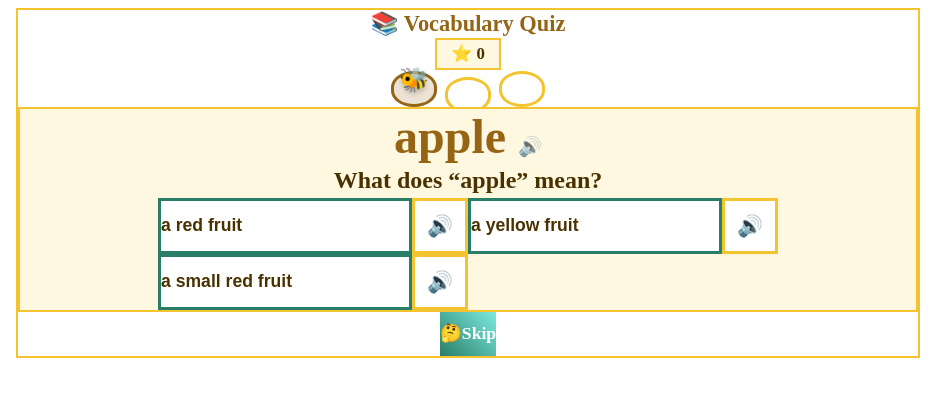
Test: QuizMode: one answer, one advance, one finish › "Next Question" cancels the auto-advance instead of skipping a question
The width and height of the screenshot is (937, 398).
Click the button "a red fruit" at (285, 226), box [158,198,412,254]
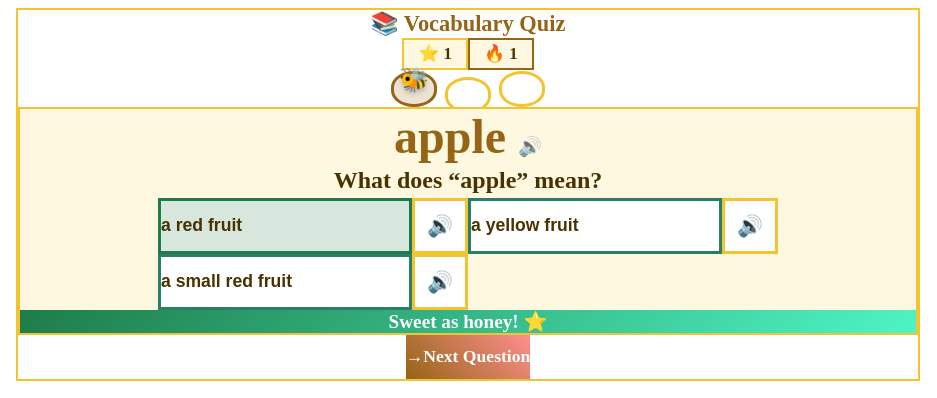
Click the button "→ Next Question" at (468, 357), box [406,335,530,379]
Wait 5000 ms
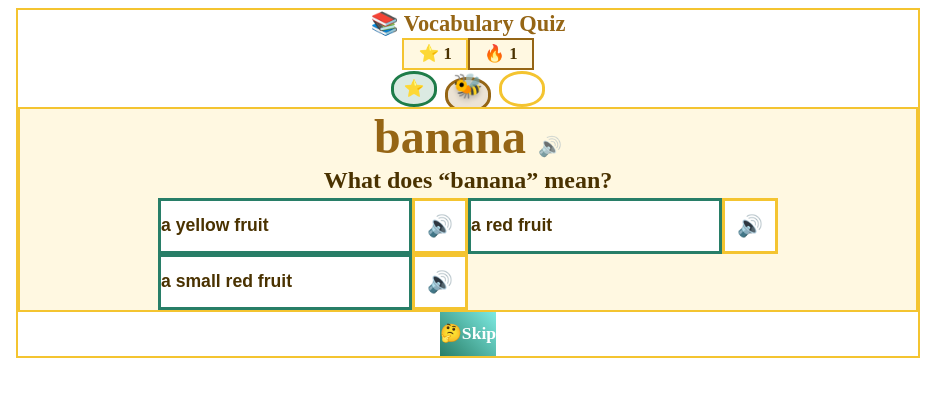
Now the heading "What does “banana” mean?" is shown, box [324,167,612,193]
